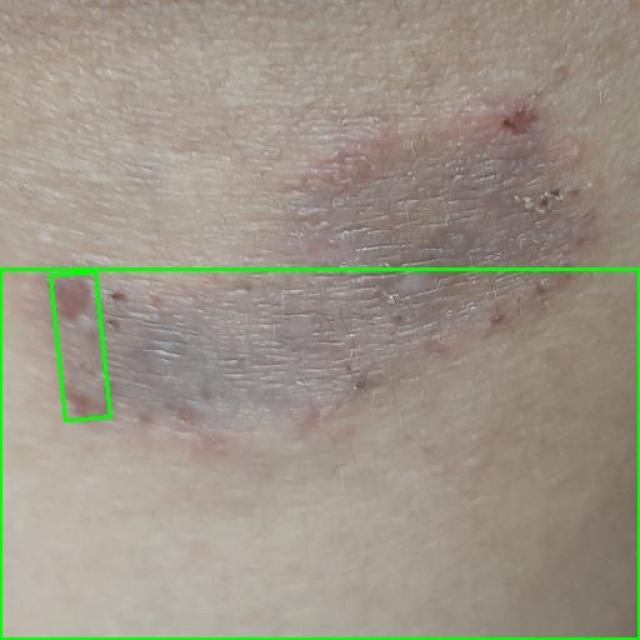Tinea Corporis: (0, 269, 639, 639), (51, 272, 110, 421)
